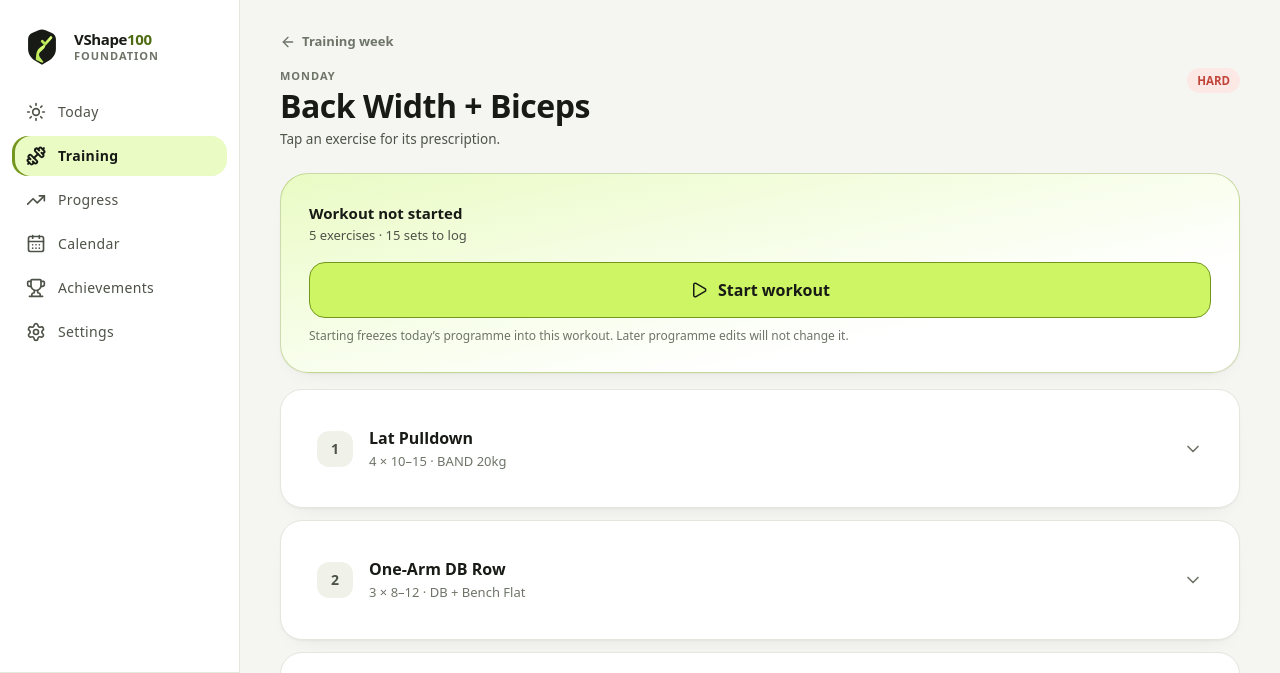
2–5. accordion behaviour › 4. collapses when the same exercise is activated again
Click the button "1 Lat Pulldown 4 × 10–15 · BAND 20kg": {"x": 335, "y": 449} 301,410 -> 1219,488
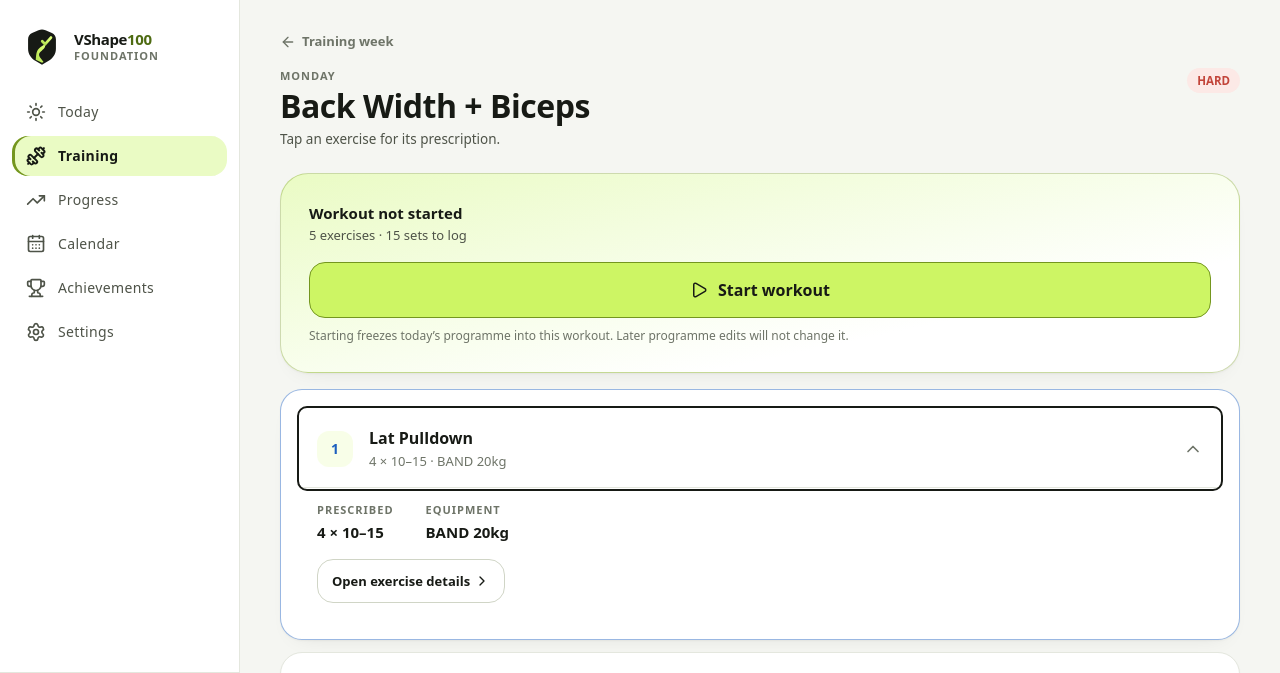
expect the button "1 Lat Pulldown 4 × 10–15 · BAND 20kg" is expanded: met
Click the button "1 Lat Pulldown 4 × 10–15 · BAND 20kg": {"x": 335, "y": 449} 301,410 -> 1219,488
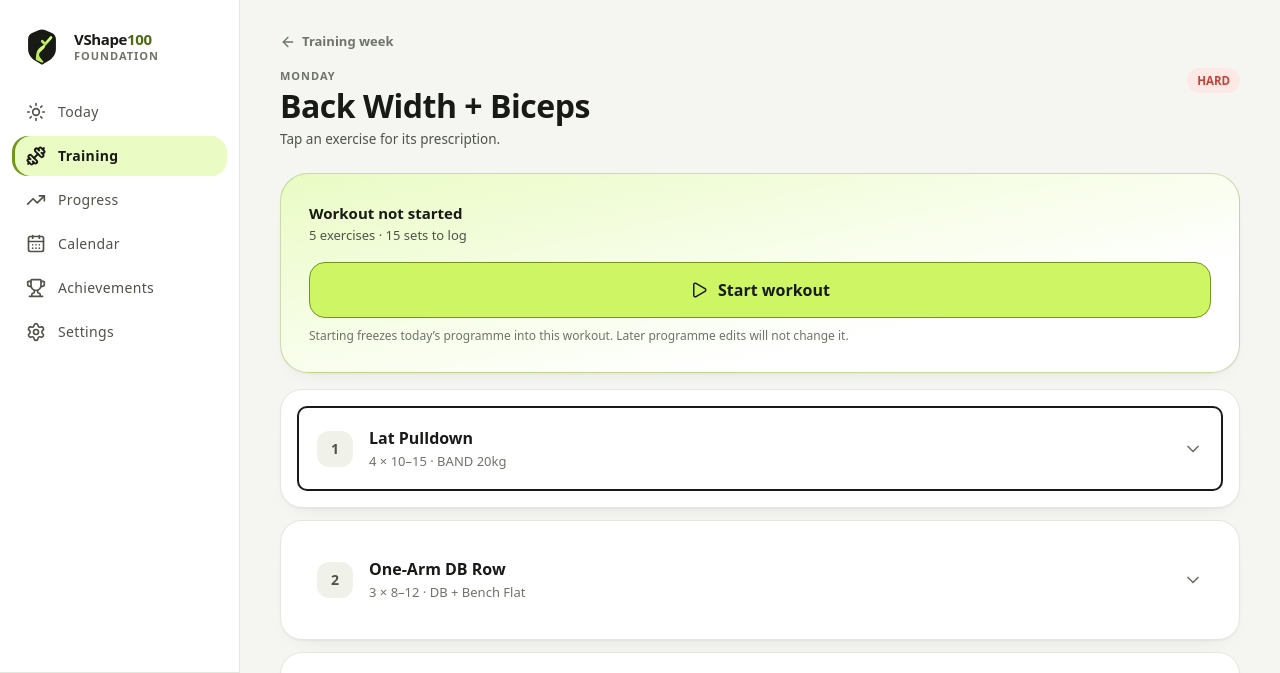
expect the button "1 Lat Pulldown 4 × 10–15 · BAND 20kg" is collapsed: met, box 301,410 -> 1219,488
